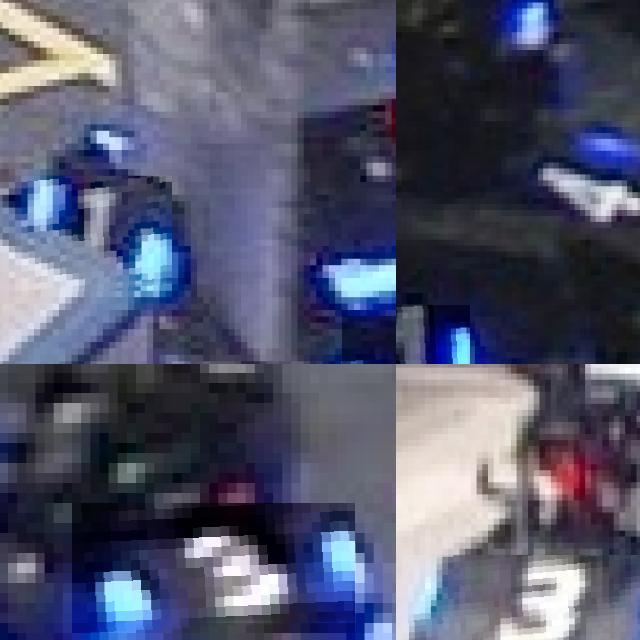B1: (21, 176, 172, 297)
B3: (72, 503, 355, 633), (402, 554, 640, 640)
B4: (396, 304, 469, 364)
